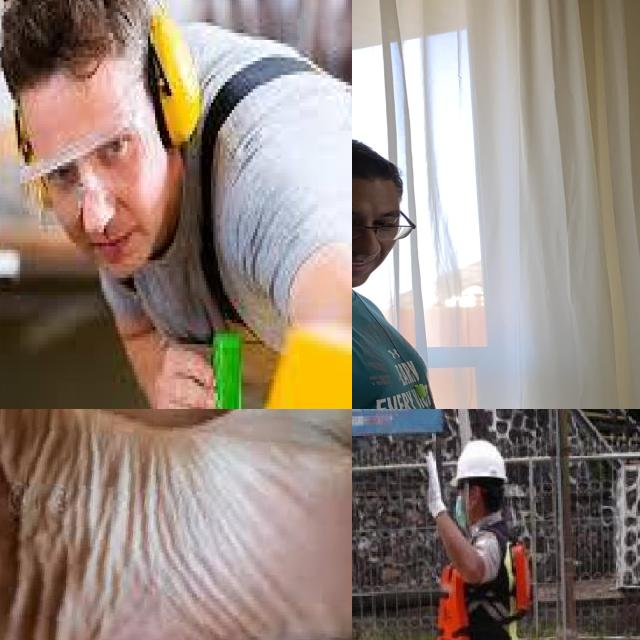Barefoots: (0, 409, 352, 640)
Ear-protection: (0, 8, 197, 202)
head_helmet: (450, 440, 510, 484)
person: (391, 411, 560, 640)
vest: (435, 527, 543, 640)
